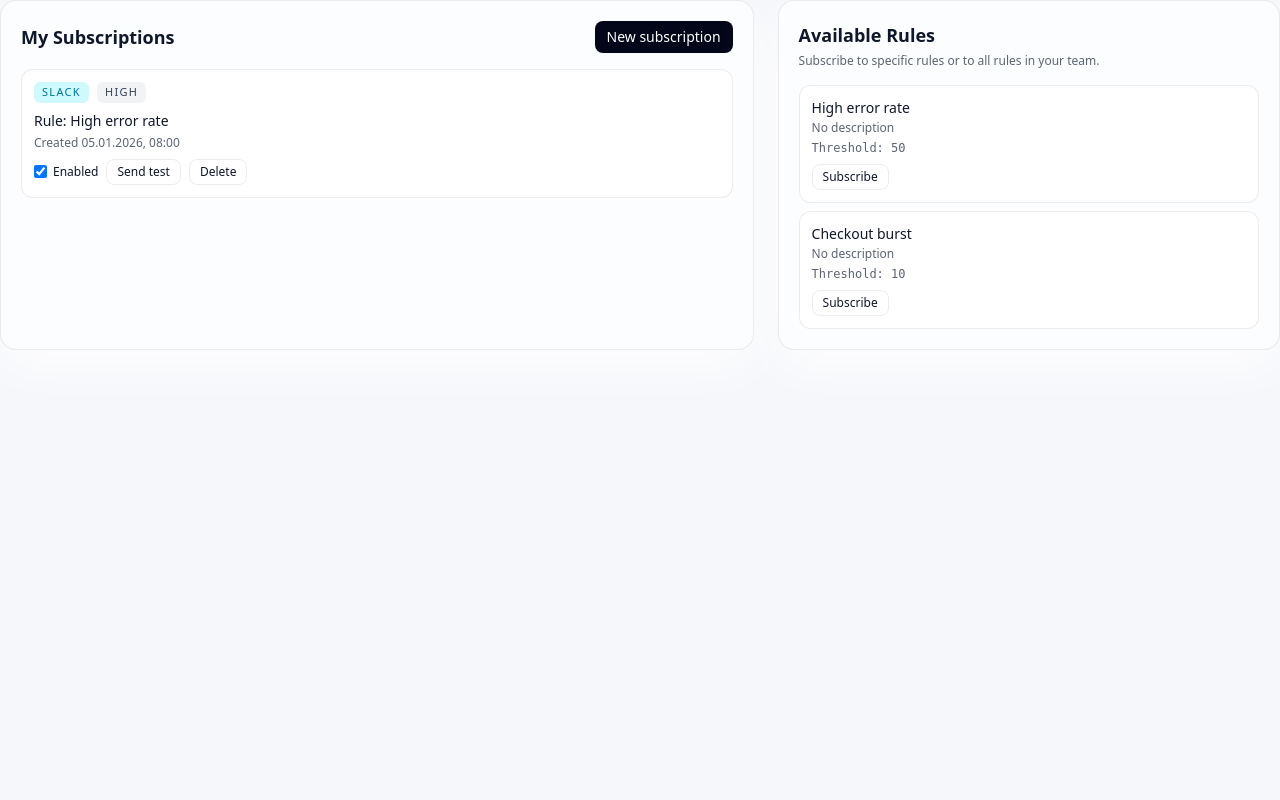
Test: delete › asks first, naming the channel and the rule, and does nothing on cancel
Click the button with aria-label "Delete SLACK subscription" at x=218, y=172, box [189,158,247,184]
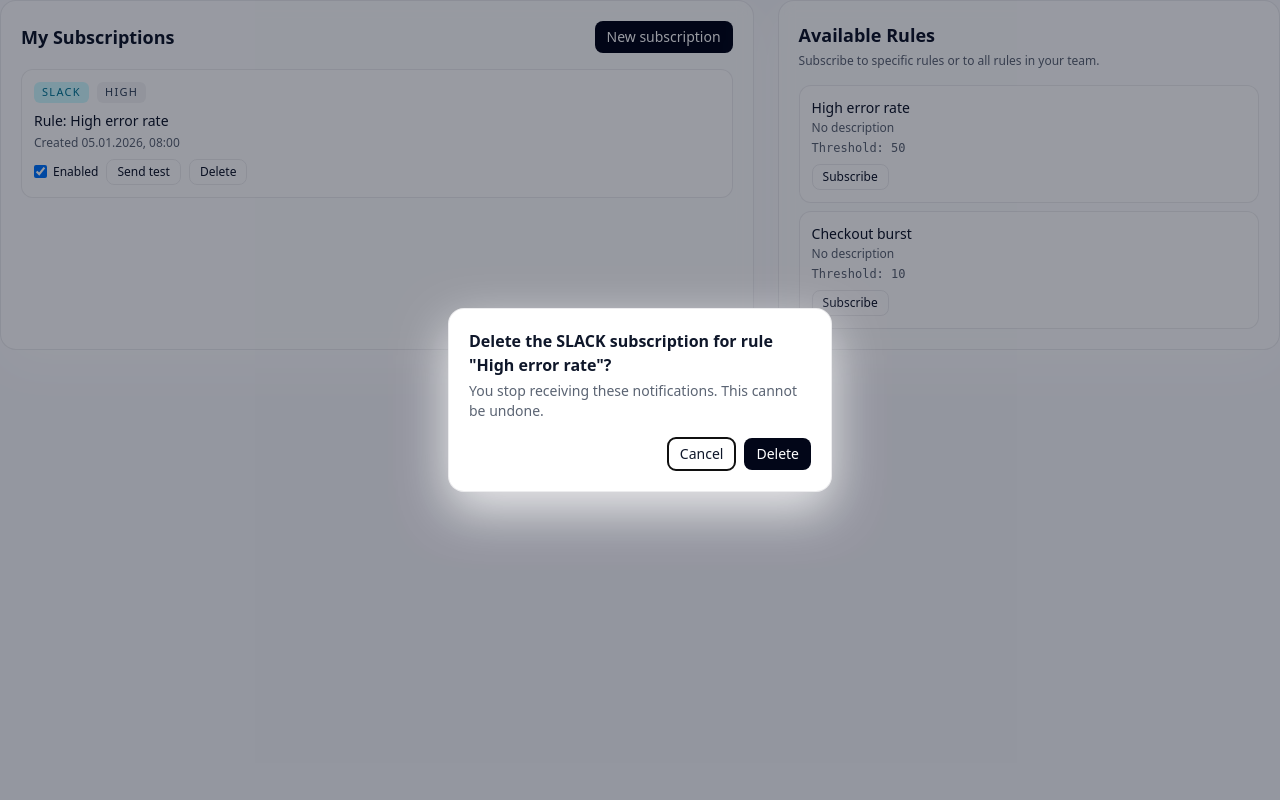
Result: the heading "Delete the SLACK subscription for rule \"High error rate\"?" is shown at [469,329,811,377]
Click the button "Cancel" at x=702, y=454, box [667,437,736,471]
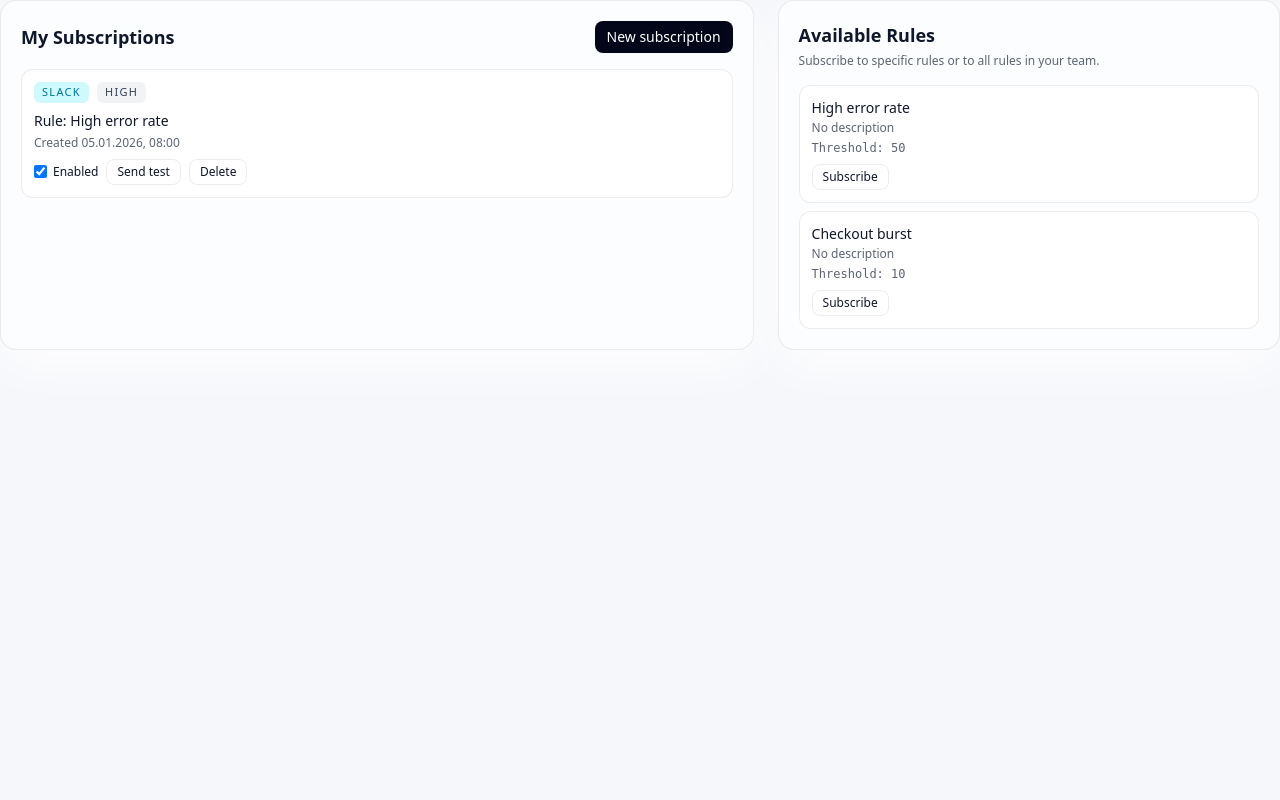
Expected: the text "Rule: High error rate" is shown, [34,110,168,130]
Result: the dialog is gone
